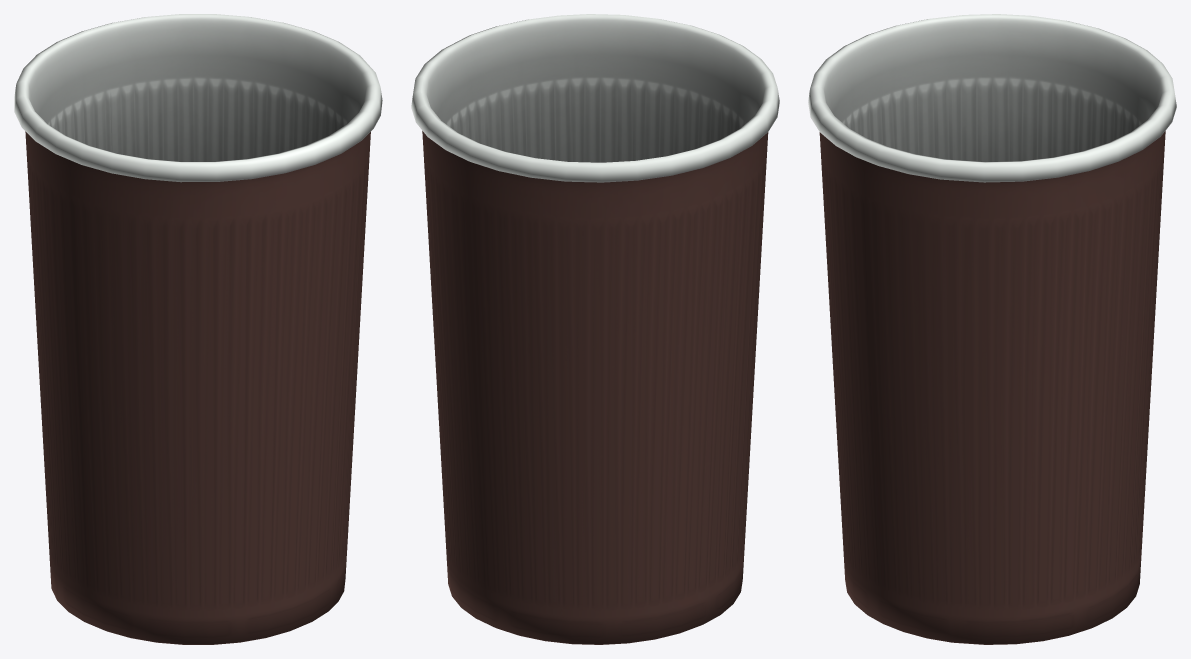
3 renders of one model, left to right at view 1: azimuth 30°, elevation 25°; view 2: azimuth 150°, elevation 25°; view 3: azimuth 270°, elevation 25°, orthographic.
Visible parts, largest first — view 1: Plastic Cup; view 2: Plastic Cup; view 3: Plastic Cup.
Part boxes in pixels (x1,y1,x2,y2): Plastic Cup: (14,14,382,644); Plastic Cup: (411,14,779,644); Plastic Cup: (808,14,1176,644).
Size of the model in its own units: 1.54 by 2.29 by 1.54.
1 material, 1 textured.
